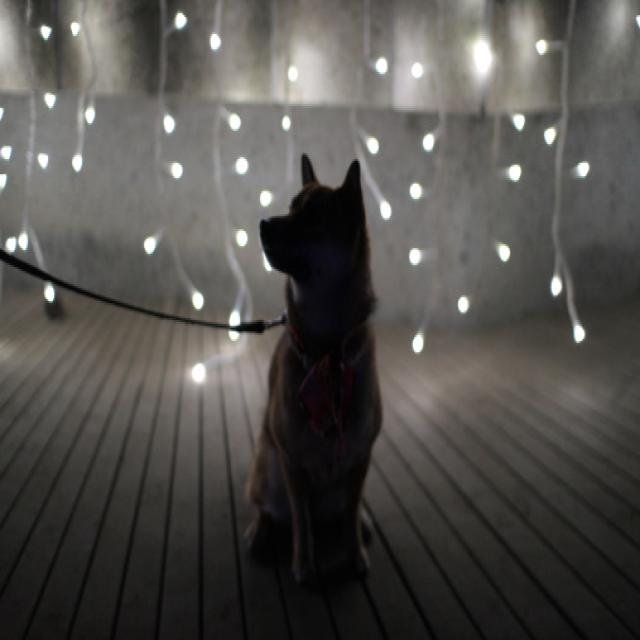dog: (239, 139, 379, 580)
